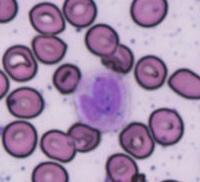N: (74, 68, 132, 131)
